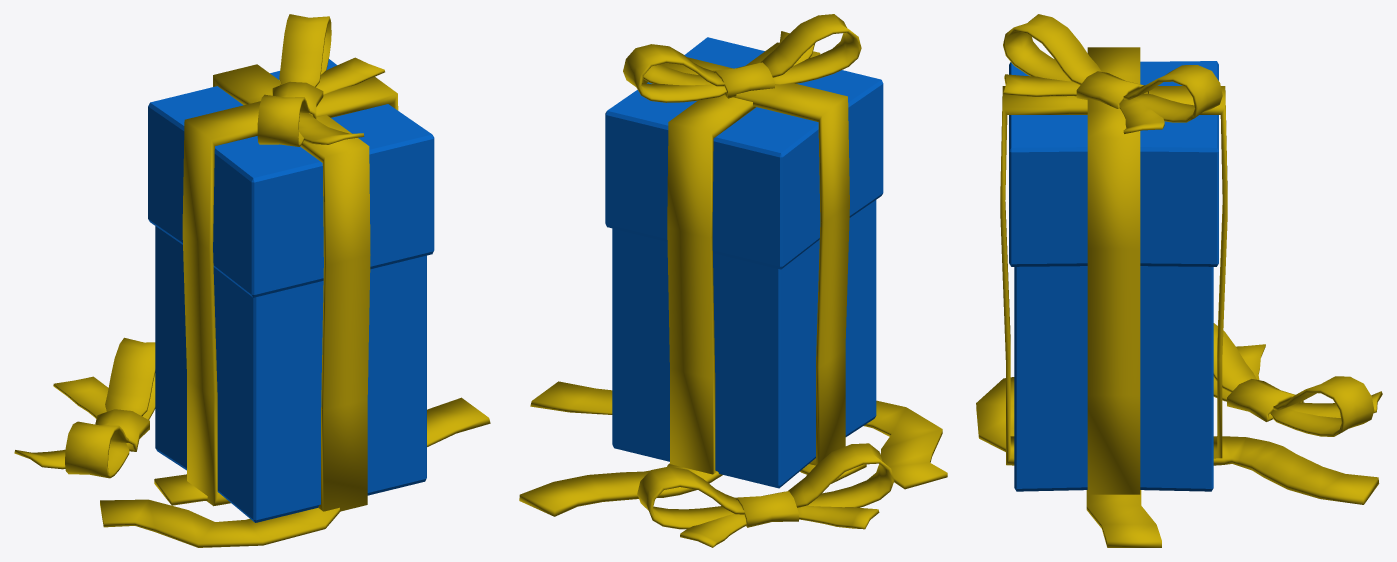
The model's file is gift_2.fbx.
3 renders of one model, left to right at view 1: azimuth 30°, elevation 25°; view 2: azimuth 150°, elevation 25°; view 3: azimuth 270°, elevation 25°, orthographic. The views are drawn at different scales.
Parts seen in each view (by area): view 1: box_2, band_2, cap_2, band_2_open; view 2: box_2, band_2, cap_2, band_2_open; view 3: band_2, box_2, cap_2, band_2_open.
Boxes of the visible parts, left/top/right/bottom form: box_2: left=155, top=226, right=426, bottom=522; band_2: left=182, top=14, right=398, bottom=511; cap_2: left=148, top=59, right=434, bottom=297; band_2_open: left=14, top=337, right=490, bottom=547; box_2: left=612, top=200, right=876, bottom=488; band_2: left=623, top=14, right=861, bottom=478; cap_2: left=605, top=37, right=883, bottom=269; band_2_open: left=519, top=381, right=947, bottom=547; band_2: left=1000, top=14, right=1227, bottom=494; box_2: left=1014, top=266, right=1213, bottom=491; cap_2: left=1009, top=61, right=1218, bottom=266; band_2_open: left=976, top=323, right=1382, bottom=547.
Size of the model in its own units: 123 by 124 by 110.
